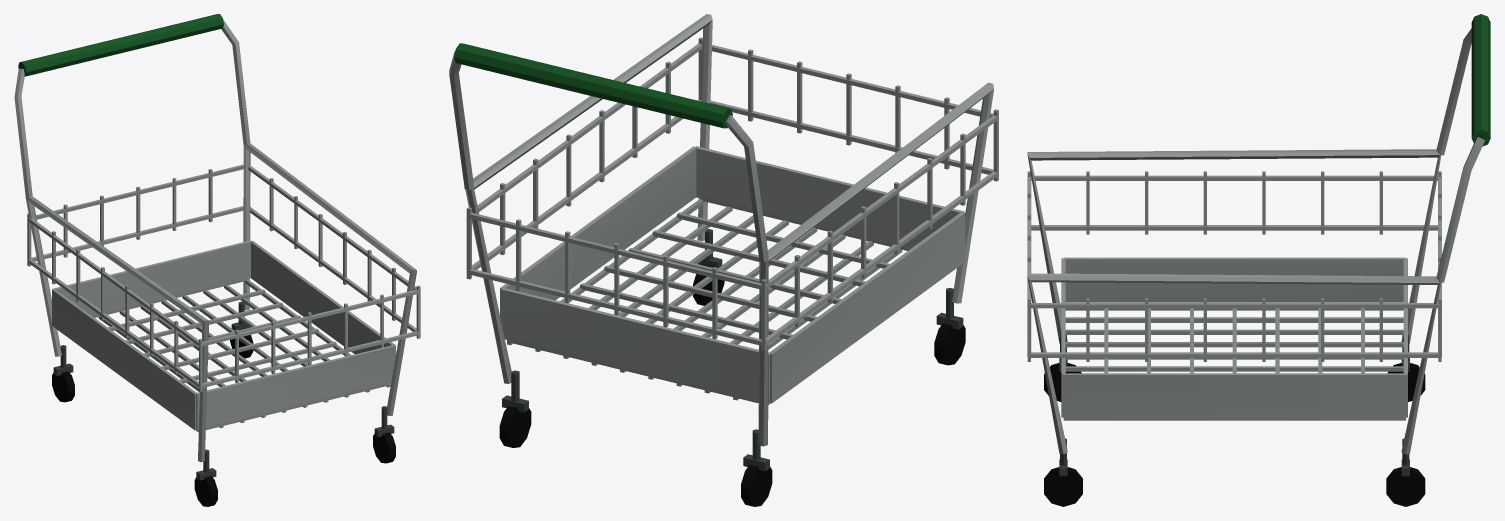
The model's file is mkt-cart-dog.glb.
The picture shows the model from 3 angles, left to right: view 1: azimuth 30°, elevation 25°; view 2: azimuth 150°, elevation 25°; view 3: azimuth 270°, elevation 25°; orthographic projection. The views are drawn at different scales.
Parts seen in each view (by area): view 1: wire__chrome, frame__chrome, grip__plastic; view 2: wire__chrome, frame__chrome, grip__plastic; view 3: wire__chrome, frame__chrome, grip__plastic.
Part boxes in pixels (x1,y1,x2,y2): wire__chrome: (27,164,420,432); frame__chrome: (14,20,416,506); grip__plastic: (18,14,223,76); wire__chrome: (466,37,998,404); frame__chrome: (449,14,993,506); grip__plastic: (454,43,732,128); wire__chrome: (1027,171,1441,420); frame__chrome: (1027,28,1484,506); grip__plastic: (1471,14,1490,146).
Size of the model in its own units: 0.454 by 0.614 by 0.677.
